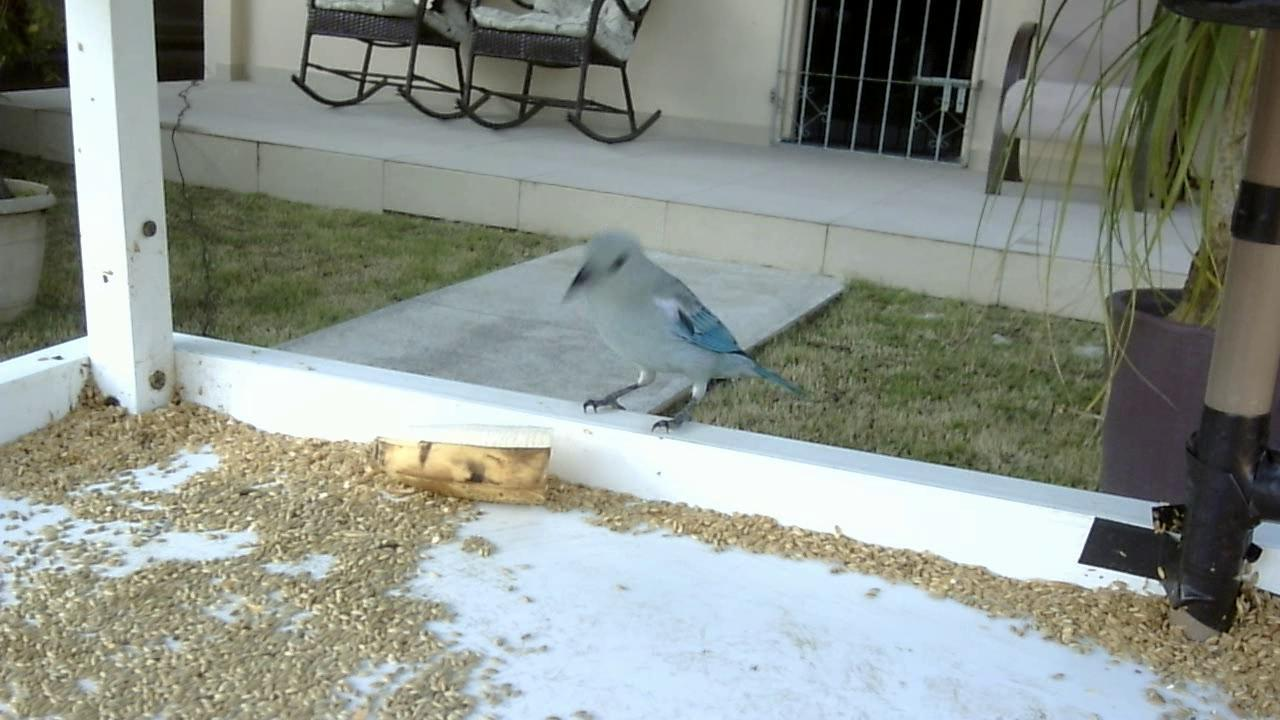sanhaco_da_amazonia: (550, 223, 813, 441)
